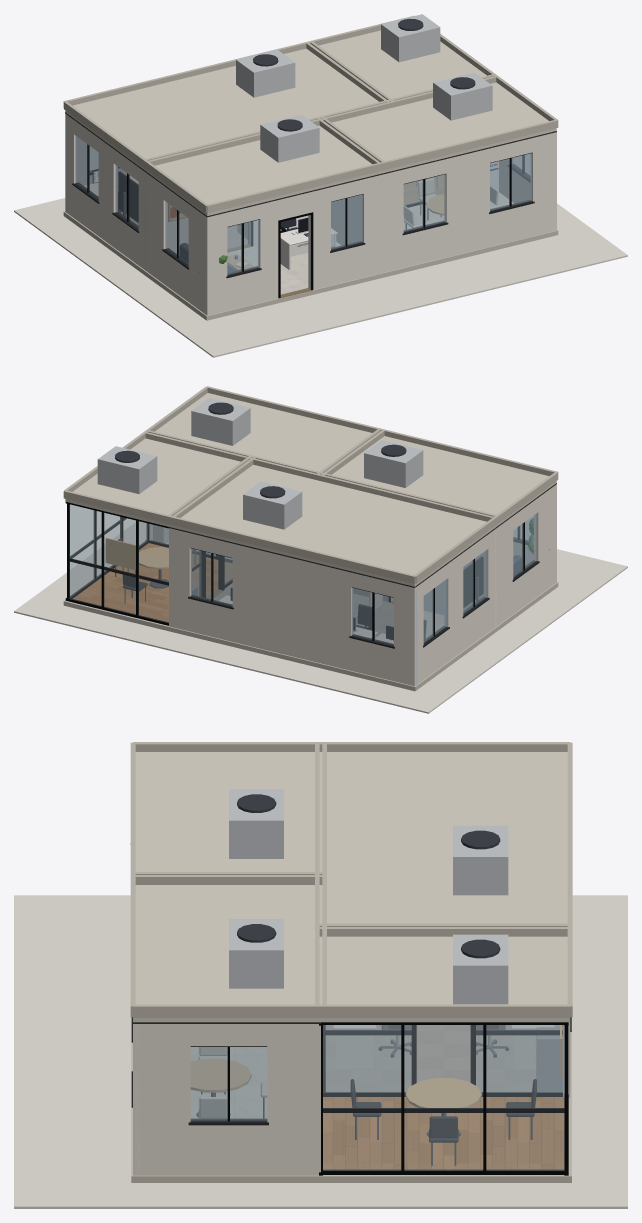
The model's file is comercial.glb.
The picture shows the model from 3 angles, top to bottom: view 1: azimuth 30°, elevation 25°; view 2: azimuth 150°, elevation 25°; view 3: azimuth 270°, elevation 25°; orthographic projection. The views are drawn at different scales.
Visible parts, largest first — view 1: teto_malha, paredes_malha, terreno_malha, janelas_malha, esquadrias_malha, laje_malha, piso_porcelanato_malha, paredes_topo_malha, mesa-reta_malha, tv-pedestal_malha; view 2: teto_malha, paredes_malha, terreno_malha, divisorias_vidro_malha, janelas_malha, esquadrias_malha, piso_madeira_malha, laje_malha, piso_carpete_malha, quadro-arte_malha, mesa-reuniao-redonda_malha, tv-pedestal_malha (+1 smaller); view 3: teto_malha, terreno_malha, divisorias_vidro_malha, paredes_malha, piso_madeira_malha, esquadrias_malha, piso_carpete_malha, janelas_malha, laje_malha, mesa-reuniao-redonda_malha (×2), piso_porcelanato_malha, mesa-reta_malha (×2) (+2 smaller).
Part boxes in pixels (left/top/right/bottom): teto_malha: left=63, top=14, right=558, bottom=215; paredes_malha: left=65, top=113, right=556, bottom=315; terreno_malha: left=14, top=198, right=627, bottom=357; janelas_malha: left=75, top=135, right=531, bottom=274; esquadrias_malha: left=72, top=144, right=534, bottom=297; laje_malha: left=63, top=211, right=558, bottom=320; piso_porcelanato_malha: left=227, top=192, right=513, bottom=294; paredes_topo_malha: left=65, top=112, right=556, bottom=217; mesa-reta_malha: left=280, top=228, right=337, bottom=269; tv-pedestal_malha: left=118, top=171, right=138, bottom=222; teto_malha: left=63, top=386, right=558, bottom=586; paredes_malha: left=149, top=484, right=556, bottom=686; terreno_malha: left=14, top=521, right=627, bottom=713; divisorias_vidro_malha: left=69, top=504, right=231, bottom=622; janelas_malha: left=191, top=514, right=536, bottom=645; esquadrias_malha: left=65, top=502, right=539, bottom=648; piso_madeira_malha: left=73, top=543, right=232, bottom=622; laje_malha: left=63, top=582, right=558, bottom=691; piso_carpete_malha: left=214, top=583, right=443, bottom=638; quadro-arte_malha: left=105, top=538, right=135, bottom=569; mesa-reuniao-redonda_malha: left=139, top=547, right=168, bottom=588; tv-pedestal_malha: left=463, top=557, right=483, bottom=607; teto_malha: left=130, top=742, right=572, bottom=1022; terreno_malha: left=14, top=895, right=627, bottom=1208; divisorias_vidro_malha: left=323, top=1025, right=564, bottom=1170; paredes_malha: left=133, top=1022, right=570, bottom=1175; piso_madeira_malha: left=323, top=1097, right=564, bottom=1169; esquadrias_malha: left=131, top=1017, right=571, bottom=1175; piso_carpete_malha: left=326, top=1025, right=559, bottom=1091; janelas_malha: left=190, top=1047, right=267, bottom=1120; laje_malha: left=131, top=1017, right=571, bottom=1182; mesa-reuniao-redonda_malha (×2): left=191, top=1059, right=481, bottom=1136; piso_porcelanato_malha: left=191, top=1047, right=266, bottom=1118; mesa-reta_malha (×2): left=333, top=1025, right=553, bottom=1067.
Size of the model in its own units: 12 by 3.81 by 10.
Materials: 18 (5 with a texture image).
